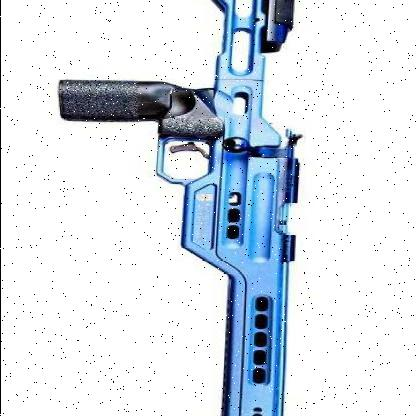rifle: (47, 3, 322, 399)
